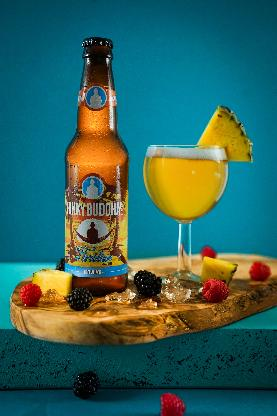Glass Bottle: (63, 37, 128, 295)
